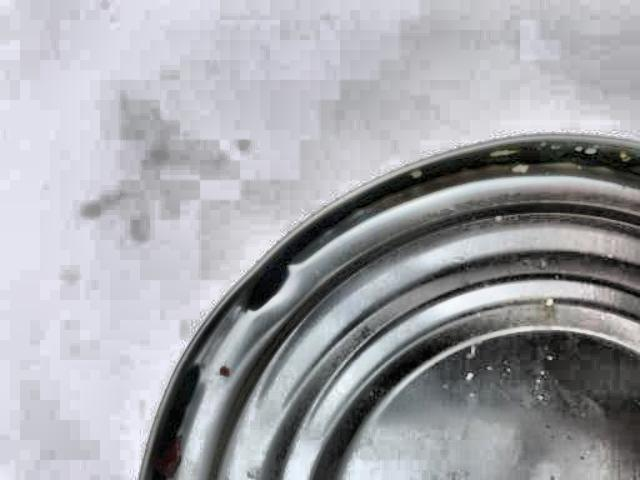Almennt: (116, 103, 640, 480)
